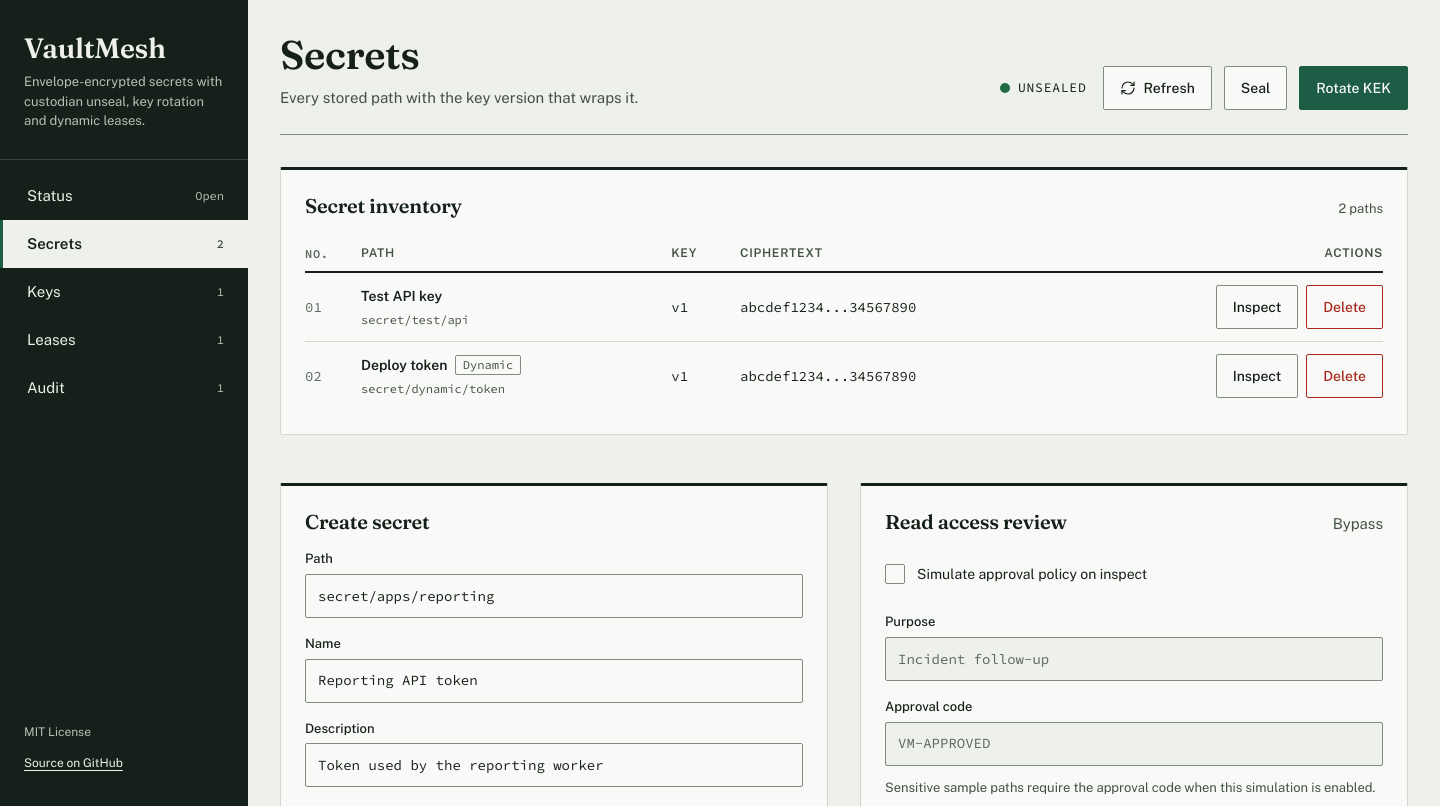
Scenario: App › shows vault state, inventory, lease countdowns and the audit check
Expected: the text "Test API key" is shown, [361,288,442,304]
Expected: the message reads "UNSEALED", [1018,79,1086,96]
What coordinates should you click on to do the following:
click the button "Leases 1"
I would click on:
 (124, 340)
Its box is [0,316,248,364].
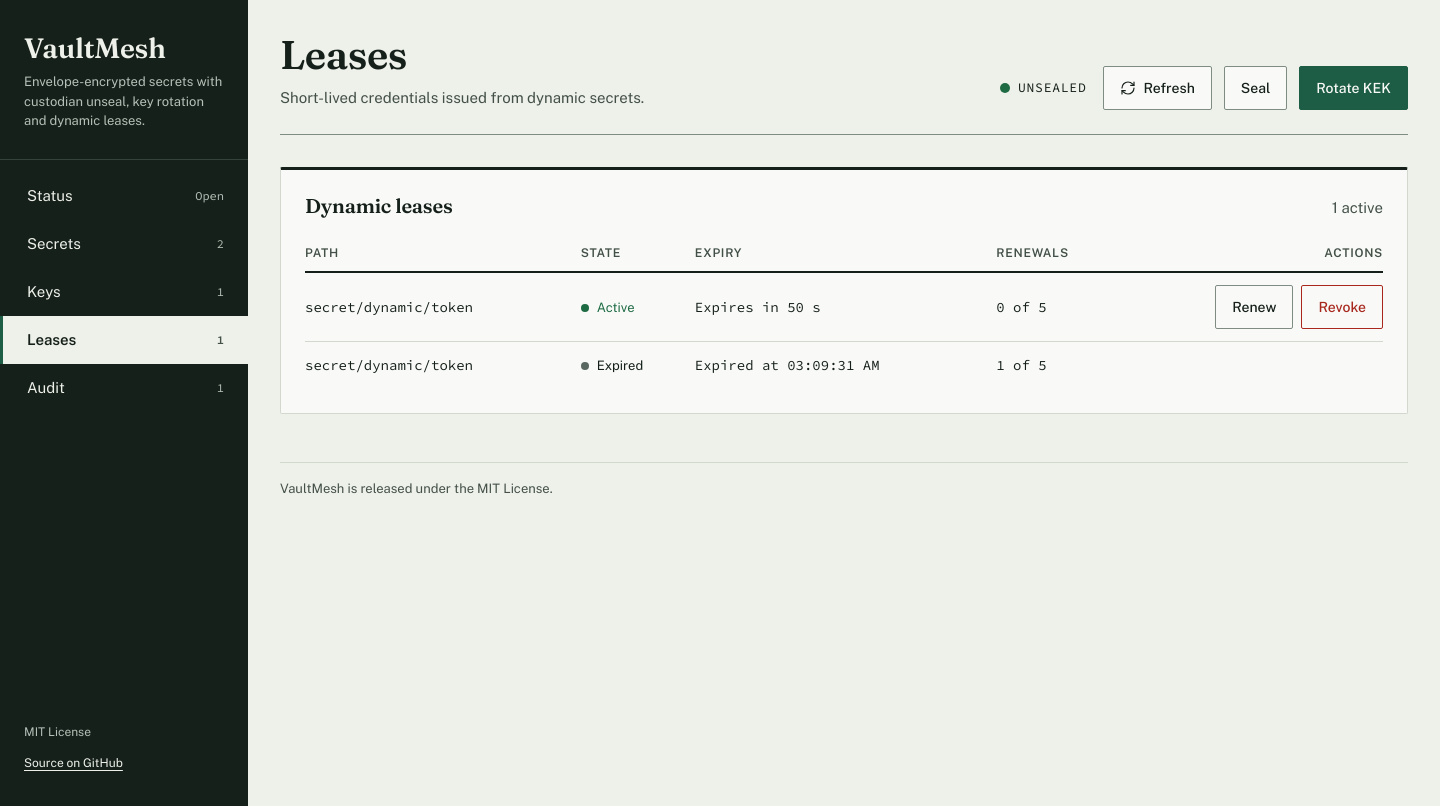
Result: the text "Expires in 50 s" is shown at [695,272,996,342]
Result: the text "Expired at 03:09:31 AM" is shown at [695,342,996,389]
What coordinates should you click on to do the following:
click the button "Audit 1"
I would click on:
 (124, 388)
Its box is [0,364,248,412].
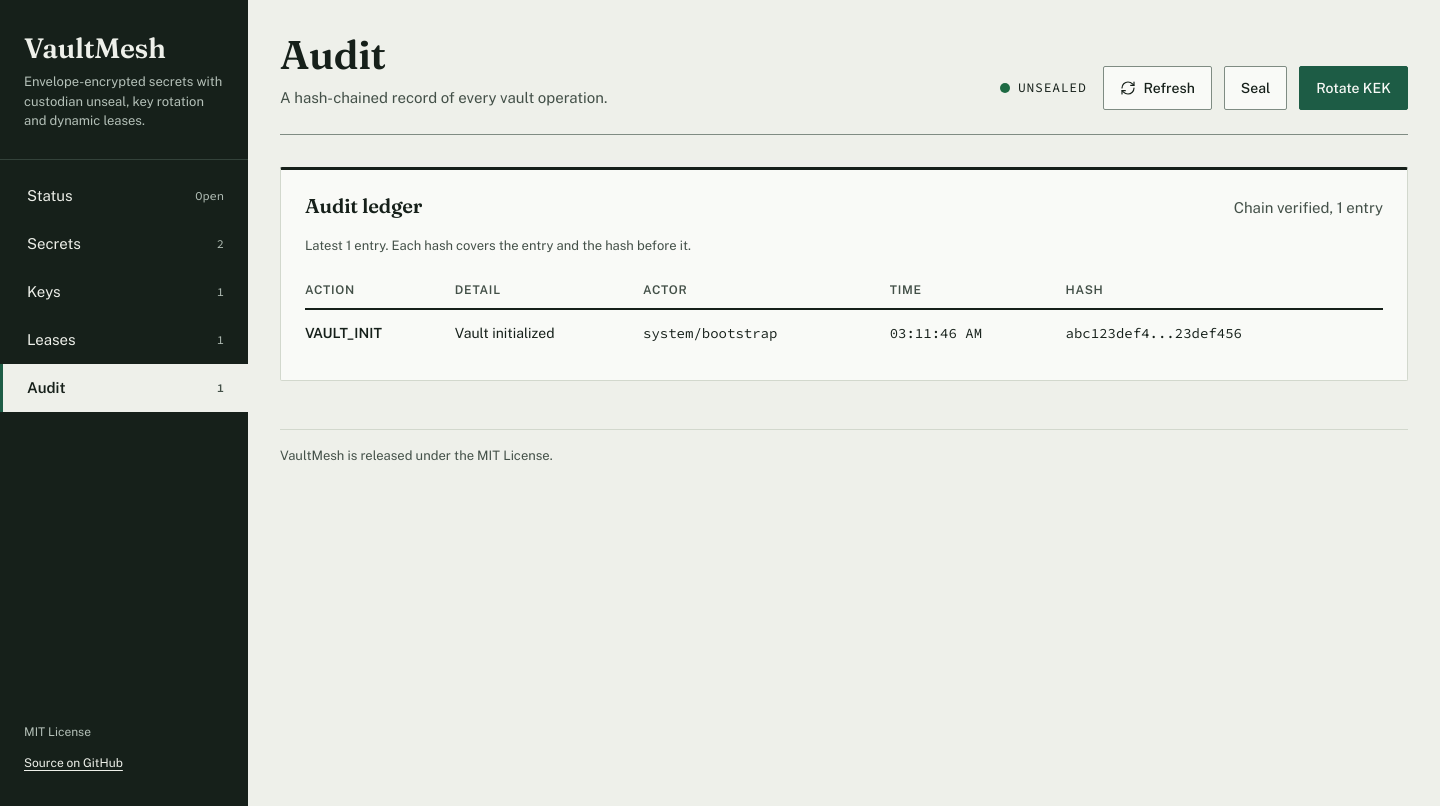
Result: the text "Chain verified, 1 entry" is shown at [1234,196,1383,220]
What coordinates should you click on to do the following:
click the button "Keys 1"
I would click on:
 (124, 292)
Its box is [0,268,248,316].
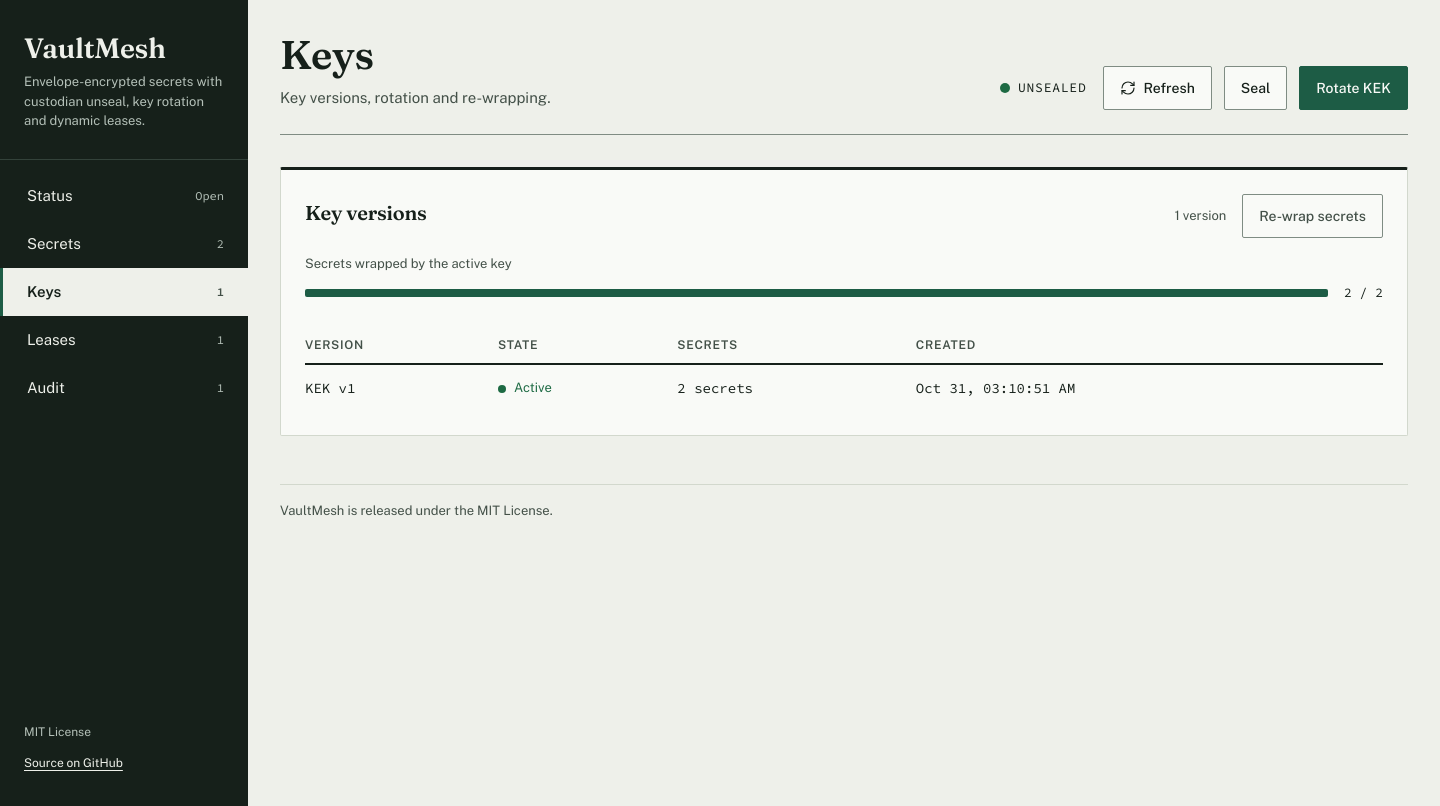
Result: the text "1 version" is shown at [1174,206,1226,226]
What coordinates should you click on to do the following:
click the button "Status Open"
I would click on:
 (124, 196)
Its box is [0,172,248,220].
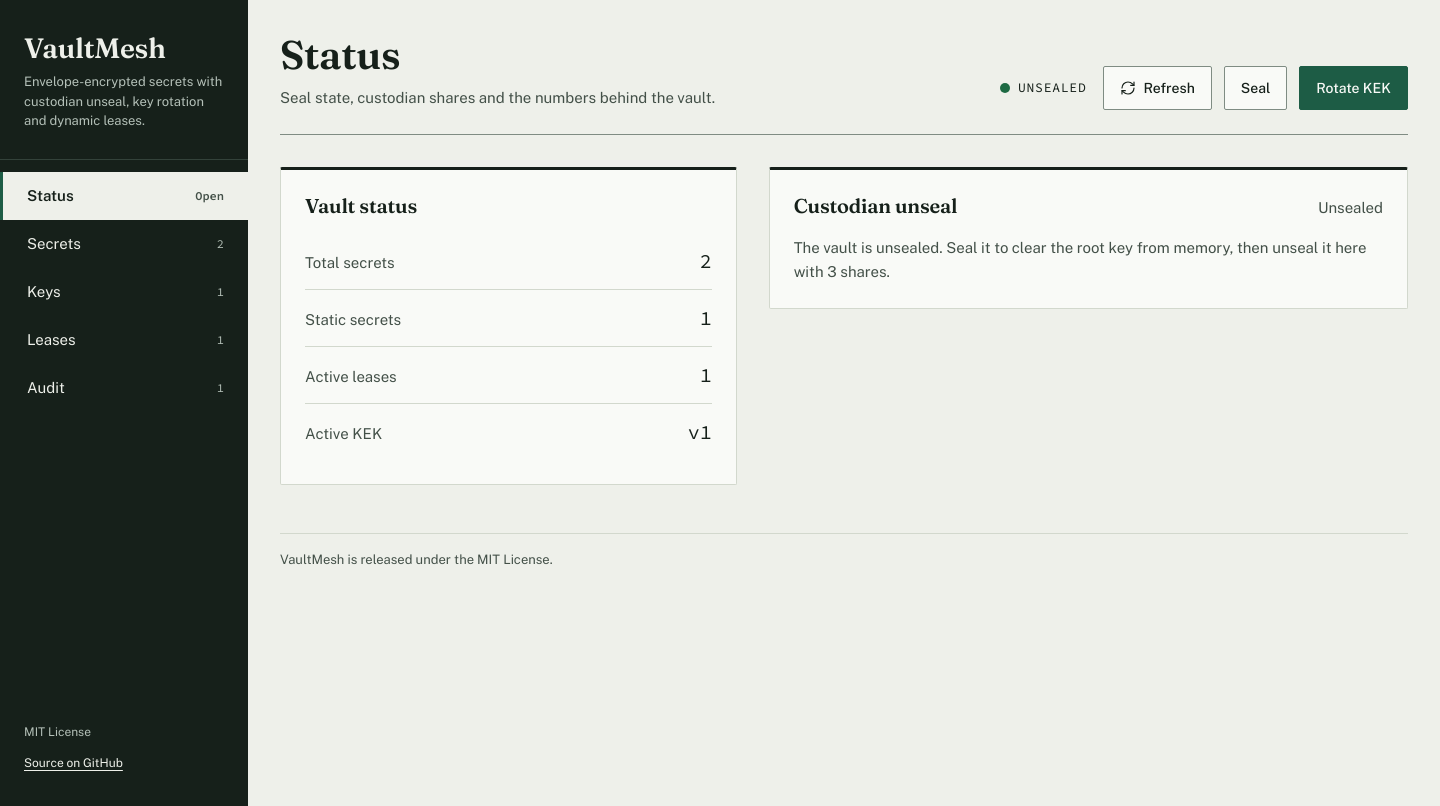
Result: the heading "Vault status" is shown at [305,194,417,217]
Result: the text "Active KEK" is shown at [305,422,382,446]
What coordinates should you click on to do the following:
click the button "Leases 1"
I would click on:
 (124, 340)
Its box is [0,316,248,364].
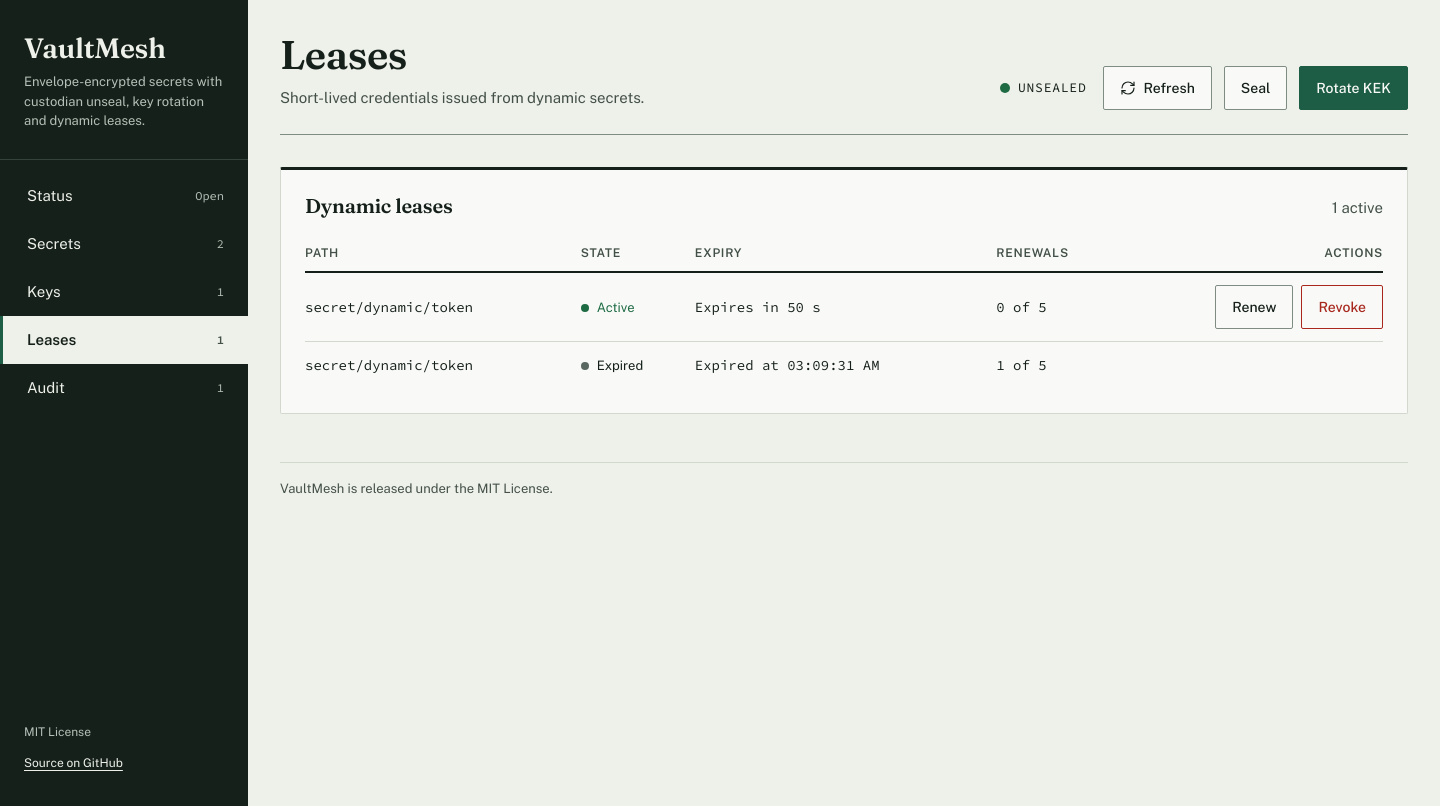
Result: the number of buttons named "Renew lease" is 1 at [1215,285,1293,329]
